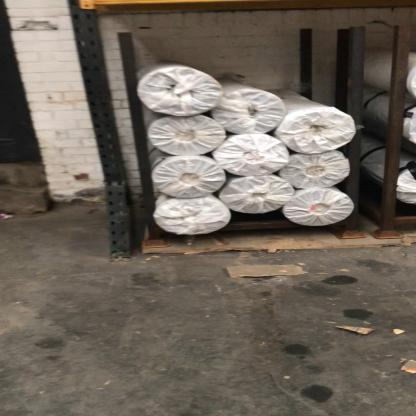vertical_damage: (94, 142, 135, 207)
